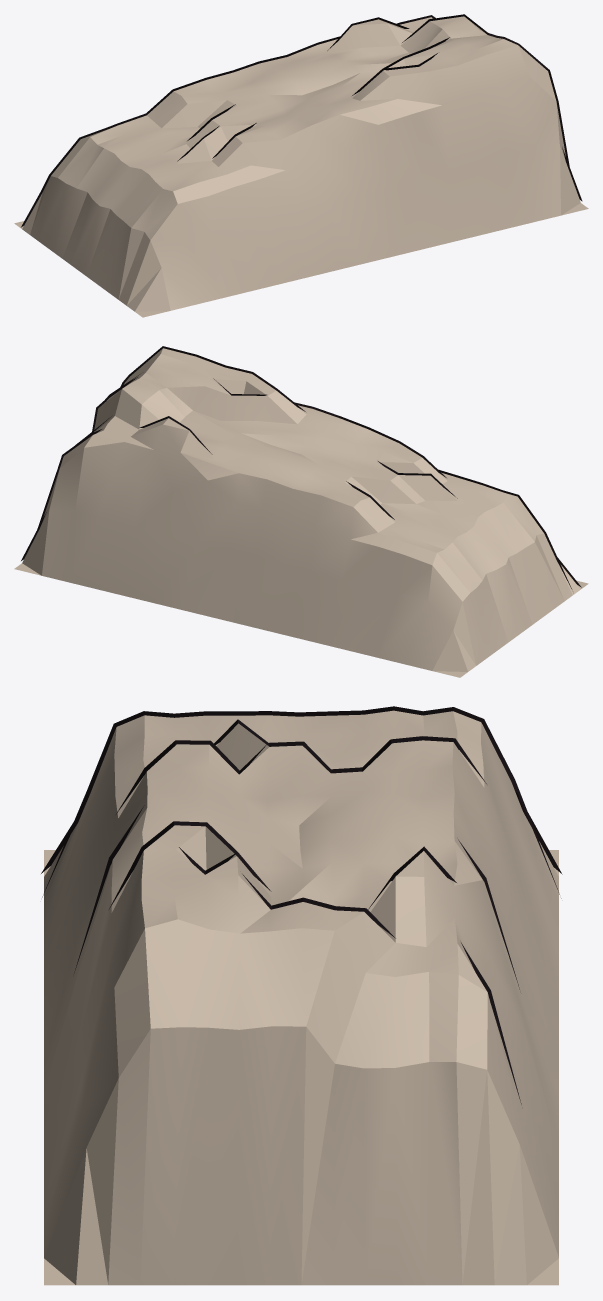
Rendered from SM_Cliff_08.fbx.
3 renders of one model, top to bottom at view 1: azimuth 30°, elevation 25°; view 2: azimuth 150°, elevation 25°; view 3: azimuth 270°, elevation 25°, orthographic. The views are drawn at different scales.
Visible parts, largest first — view 1: SM_Cliff_08; view 2: SM_Cliff_08; view 3: SM_Cliff_08.
Part boxes in pixels (left/top/right/bottom): SM_Cliff_08: left=14, top=14, right=588, bottom=317; SM_Cliff_08: left=14, top=346, right=588, bottom=677; SM_Cliff_08: left=41, top=706, right=562, bottom=1285.
Bounding box in the file's own units: 12.1 × 4.11 × 6.1.
